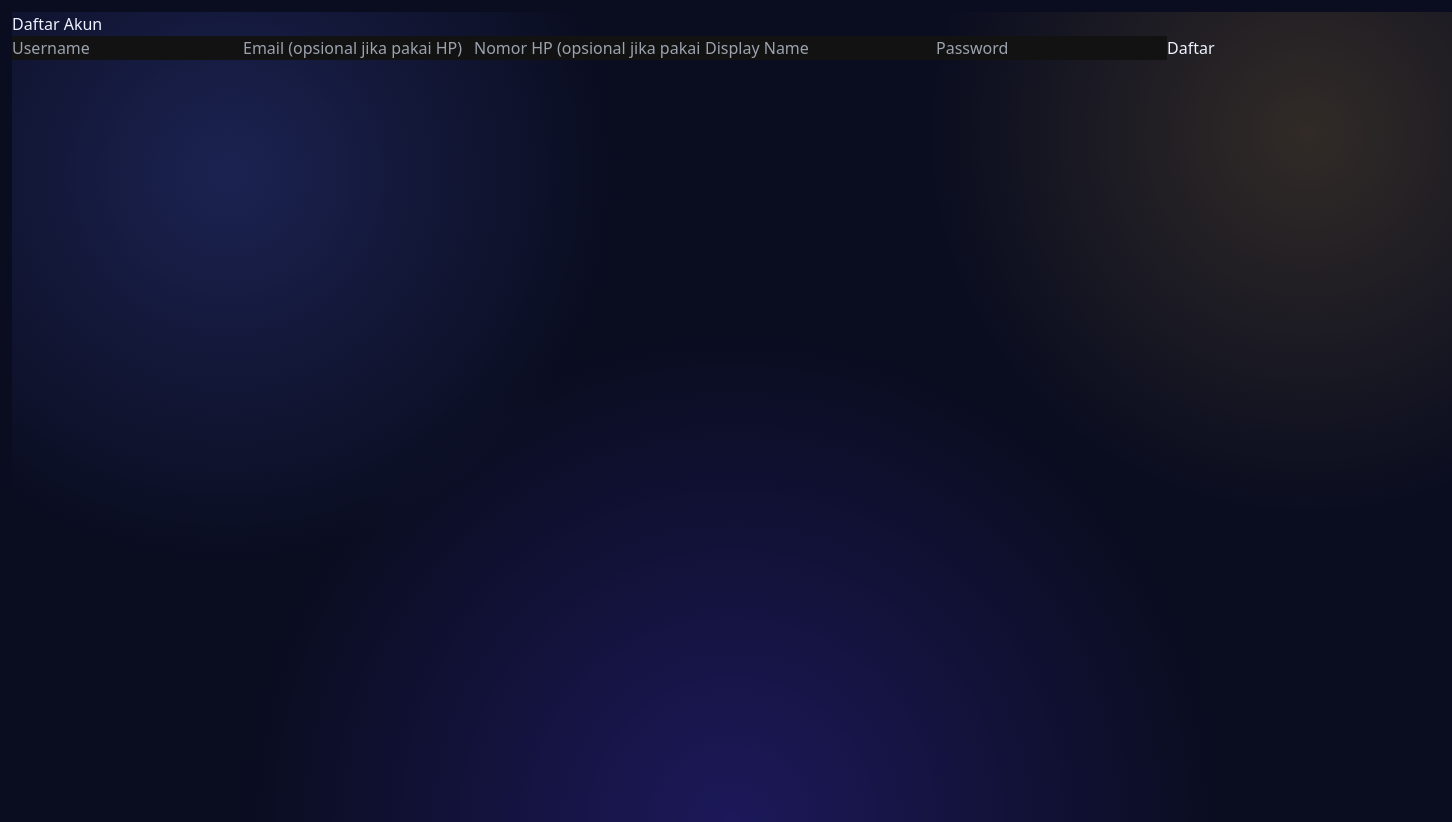
Scenario: RegisterForm › menampilkan error jika username kosong
Type "test@test.com" into the field with placeholder "Email (opsional jika pakai HP)" at {"x": 358, "y": 48}, box 243,36 -> 474,60
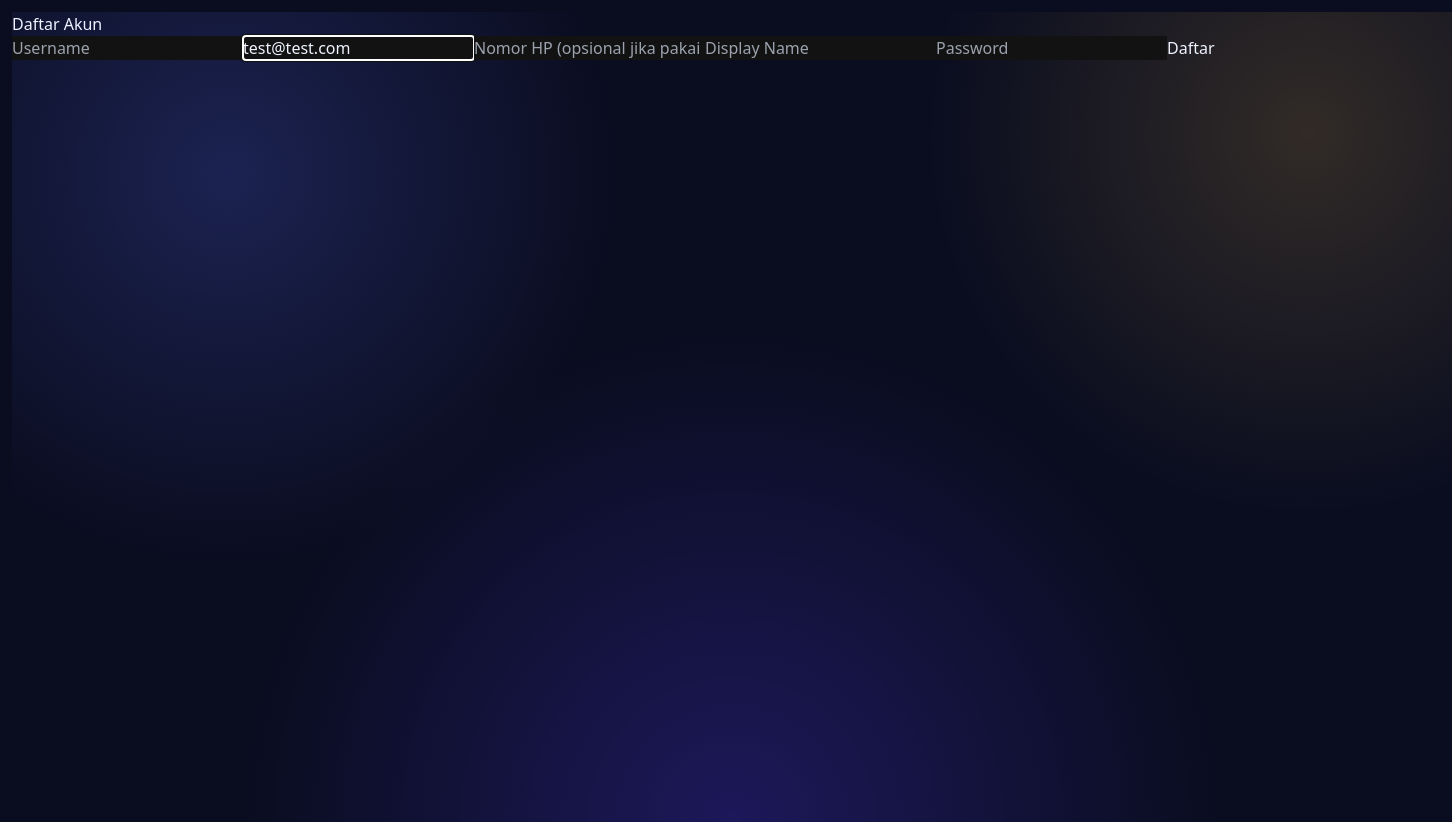
Click the button "Daftar" at {"x": 1191, "y": 48}, box 1167,36 -> 1214,60
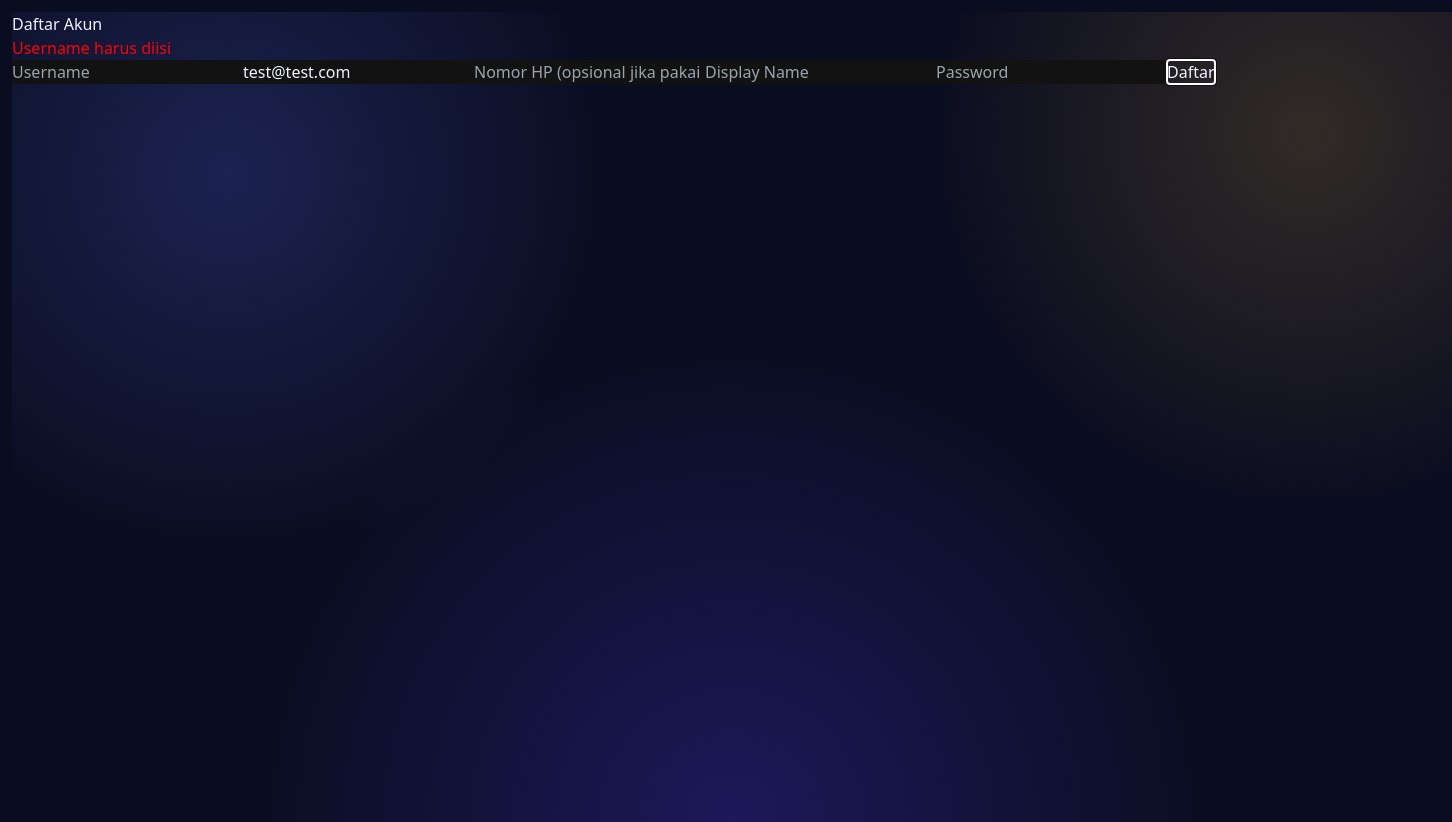
Now the text "Username harus diisi" is shown, box 12,37 -> 171,59
